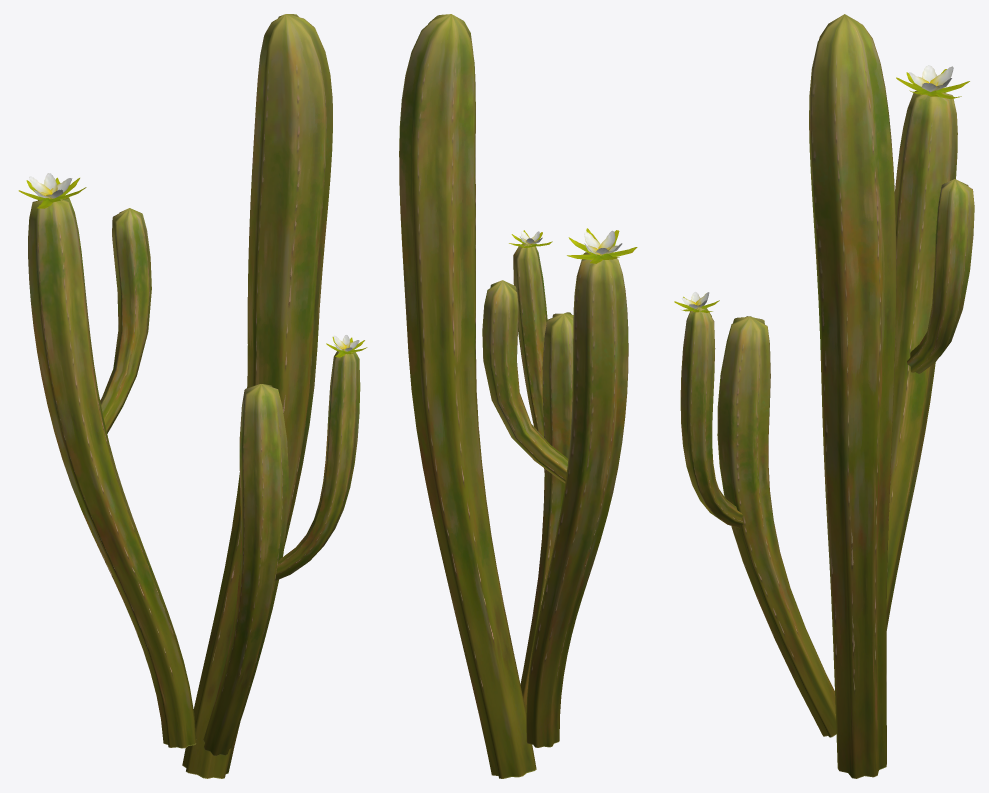
Rendered from P_Cactus07.obj.
3 renders of one model, left to right at view 1: azimuth 30°, elevation 25°; view 2: azimuth 150°, elevation 25°; view 3: azimuth 270°, elevation 25°, orthographic. The views are drawn at different scales.
Size of the model in its own units: 3.28 by 8.72 by 3.03.
